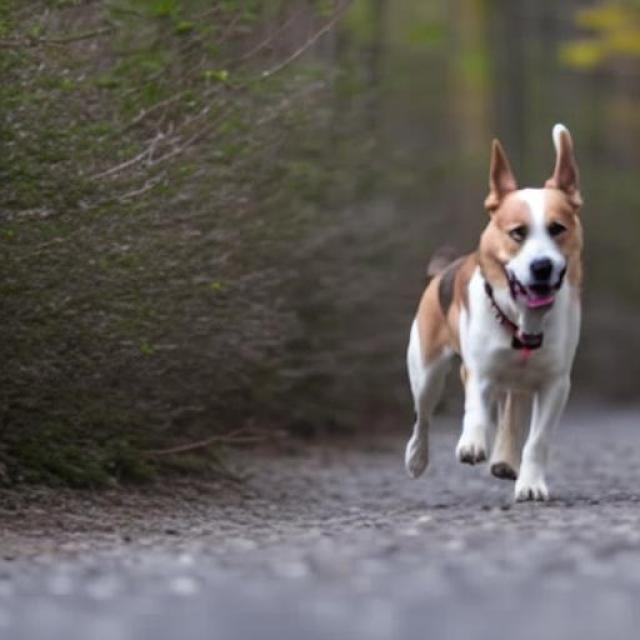Dog: (404, 123, 584, 500)
